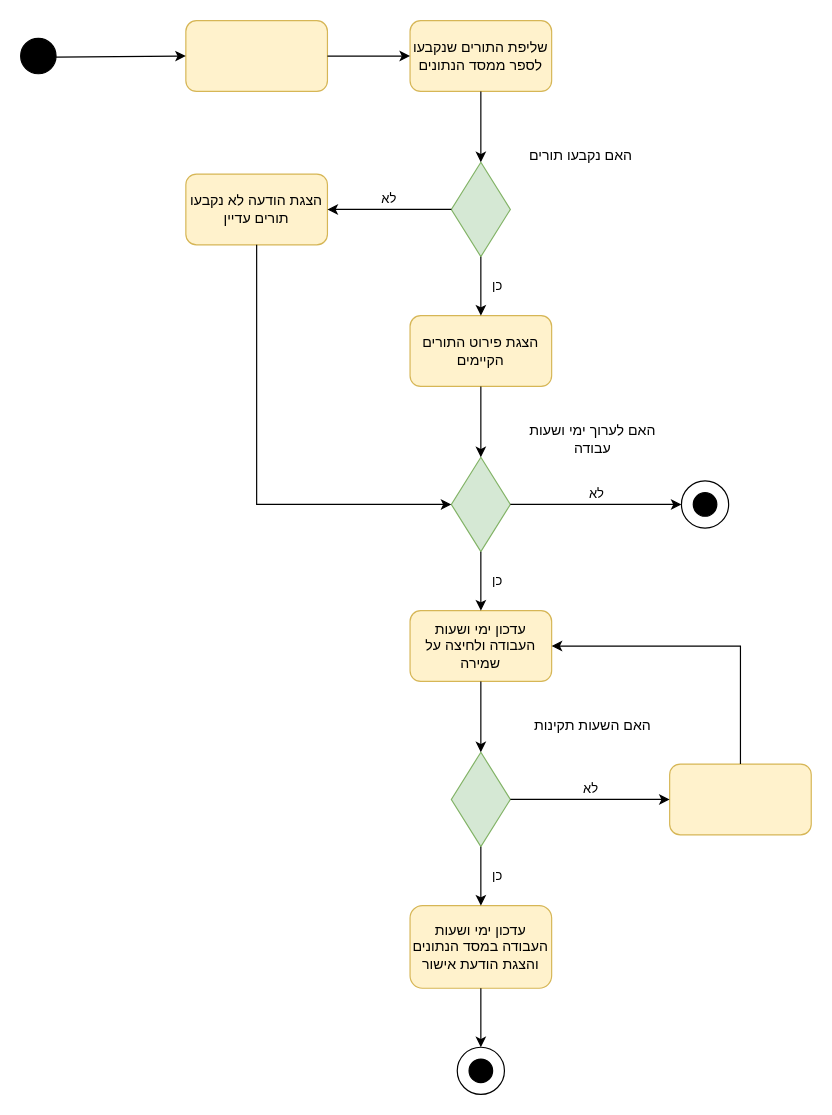
The diagram is 832 pixels wide and 1115 high, and some of its shapes have lost their labels. Each missing label, with the centre of its shape:
הצגת הודעת שגיאה מתאימה: the point at 739,799
לחיצה על אפשרות יומן תורים: the point at 256,55
